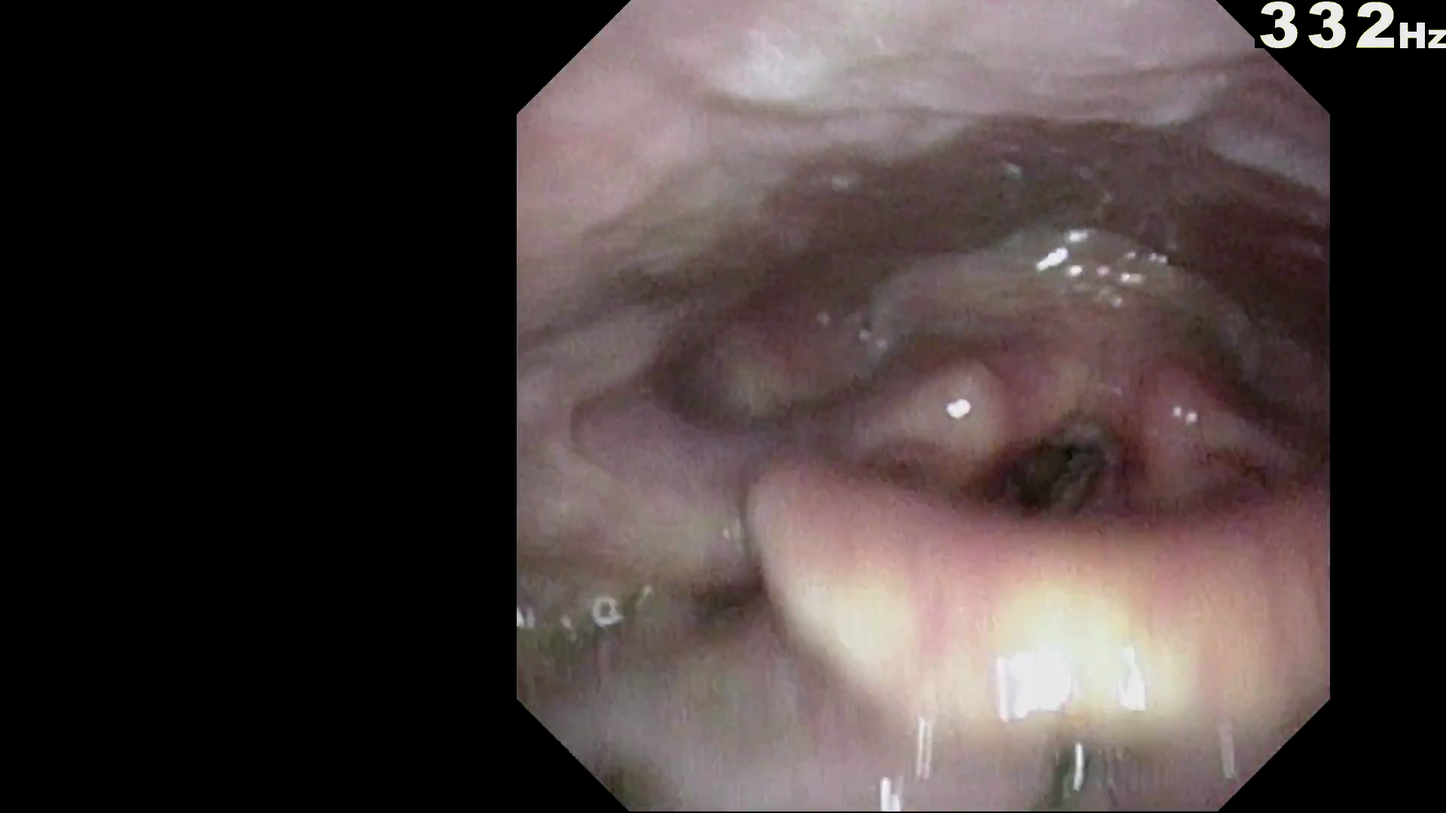epiglottis: (702, 366, 1320, 592), (718, 429, 1320, 654)
trachea: (1006, 416, 1128, 535)
